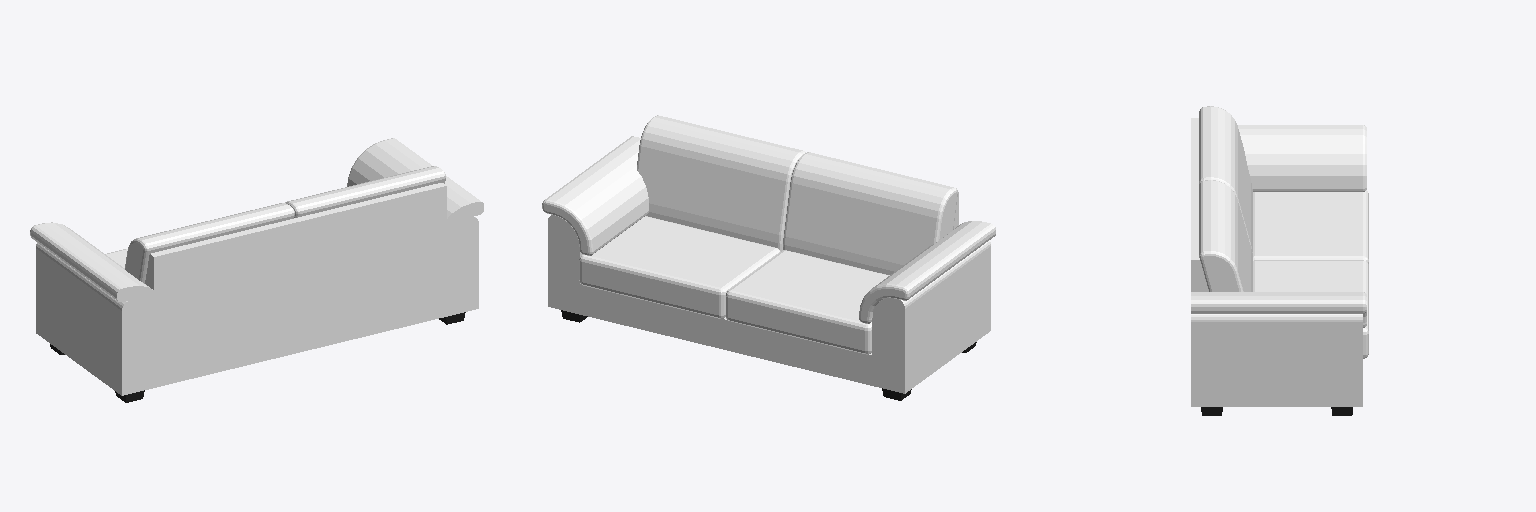
3 views of the same model, side by side, from view 1: azimuth 30°, elevation 25°; view 2: azimuth 150°, elevation 25°; view 3: azimuth 270°, elevation 25° (orthographic).
Parts seen in each view (by area): view 1: Mesh10 Composant_76_1 Model, Mesh5 Composant_70_2 Composant_72_1 Model, Mesh2 Composant_75_2 Model, Mesh1 Composant_75_1 Model, Mesh3 Composant_77_1 Model, Mesh4 Composant_70_1 Composant_72_1 Model, Mesh7 Composant_77_2 Model; view 2: Mesh3 Composant_77_1 Model, Mesh7 Composant_77_2 Model, Mesh8 Composant_73_1 Model, Mesh5 Composant_70_2 Composant_72_1 Model, Mesh9 Composant_73_2 Model, Mesh6 Composant_71_1 Composant_72_1 Model, Mesh1 Composant_75_1 Model, Mesh2 Composant_75_2 Model, Mesh4 Composant_70_1 Composant_72_1 Model; view 3: Mesh4 Composant_70_1 Composant_72_1 Model, Mesh2 Composant_75_2 Model, Mesh9 Composant_73_2 Model, Mesh7 Composant_77_2 Model, Mesh8 Composant_73_1 Model, Mesh3 Composant_77_1 Model, Mesh1 Composant_75_1 Model, Mesh10 Composant_76_1 Model.
Part boxes in pixels (left/top/right/bottom): Mesh10 Composant_76_1 Model: left=145, top=183, right=446, bottom=387; Mesh5 Composant_70_2 Composant_72_1 Model: left=36, top=242, right=153, bottom=395; Mesh2 Composant_75_2 Model: left=30, top=222, right=167, bottom=325; Mesh1 Composant_75_1 Model: left=347, top=138, right=483, bottom=257; Mesh3 Composant_77_1 Model: left=125, top=203, right=294, bottom=283; Mesh4 Composant_70_1 Composant_72_1 Model: left=447, top=217, right=478, bottom=316; Mesh7 Composant_77_2 Model: left=285, top=166, right=445, bottom=217; Mesh3 Composant_77_1 Model: left=783, top=152, right=957, bottom=274; Mesh7 Composant_77_2 Model: left=637, top=115, right=805, bottom=251; Mesh8 Composant_73_1 Model: left=579, top=216, right=780, bottom=318; Mesh5 Composant_70_2 Composant_72_1 Model: left=872, top=240, right=990, bottom=393; Mesh9 Composant_73_2 Model: left=726, top=250, right=889, bottom=354; Mesh6 Composant_71_1 Composant_72_1 Model: left=580, top=284, right=871, bottom=385; Mesh1 Composant_75_1 Model: left=542, top=136, right=648, bottom=255; Mesh2 Composant_75_2 Model: left=859, top=221, right=995, bottom=323; Mesh4 Composant_70_1 Composant_72_1 Model: left=548, top=215, right=582, bottom=314; Mesh4 Composant_70_1 Composant_72_1 Model: left=1191, top=314, right=1362, bottom=406; Mesh2 Composant_75_2 Model: left=1238, top=125, right=1366, bottom=191; Mesh9 Composant_73_2 Model: left=1253, top=190, right=1368, bottom=263; Mesh7 Composant_77_2 Model: left=1199, top=180, right=1252, bottom=291; Mesh8 Composant_73_1 Model: left=1253, top=260, right=1368, bottom=358; Mesh3 Composant_77_1 Model: left=1199, top=106, right=1252, bottom=254; Mesh1 Composant_75_1 Model: left=1191, top=292, right=1366, bottom=327; Mesh10 Composant_76_1 Model: left=1191, top=118, right=1208, bottom=291.
Bounding box in the file's own units: 0.9 × 0.3626 × 0.3783.